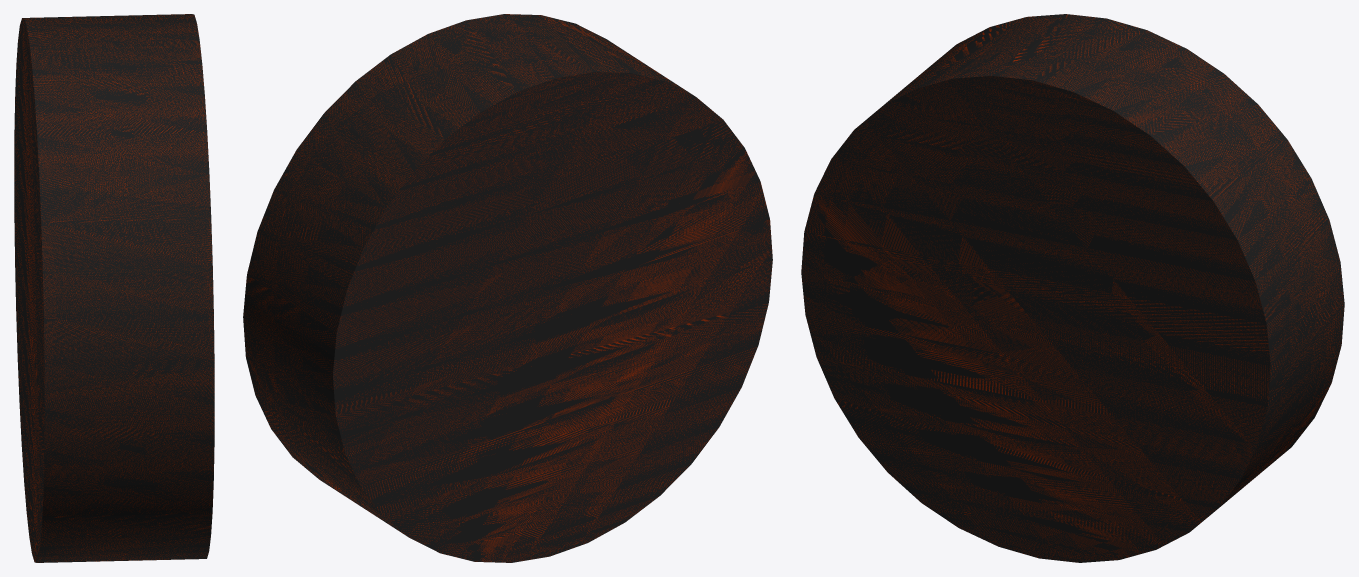
File: original-37.obj
3 views of the same model, side by side, from view 1: azimuth 30°, elevation 25°; view 2: azimuth 150°, elevation 25°; view 3: azimuth 270°, elevation 25° (orthographic). The views are drawn at different scales.
Visible parts, largest first — view 1: Group_24_2/Group_24/mesh44/mesh44-geometry#mesh44-geometry; view 2: Group_24_2/Group_24/mesh44/mesh44-geometry#mesh44-geometry; view 3: Group_24_2/Group_24/mesh44/mesh44-geometry#mesh44-geometry.
Part boxes in pixels (box(x1,y1,x2,y2)): Group_24_2/Group_24/mesh44/mesh44-geometry#mesh44-geometry: box(14, 14, 214, 562); Group_24_2/Group_24/mesh44/mesh44-geometry#mesh44-geometry: box(243, 14, 772, 562); Group_24_2/Group_24/mesh44/mesh44-geometry#mesh44-geometry: box(801, 14, 1344, 562).
Bounding box in the file's own units: 0.0736 × 0.101 × 0.1044.
